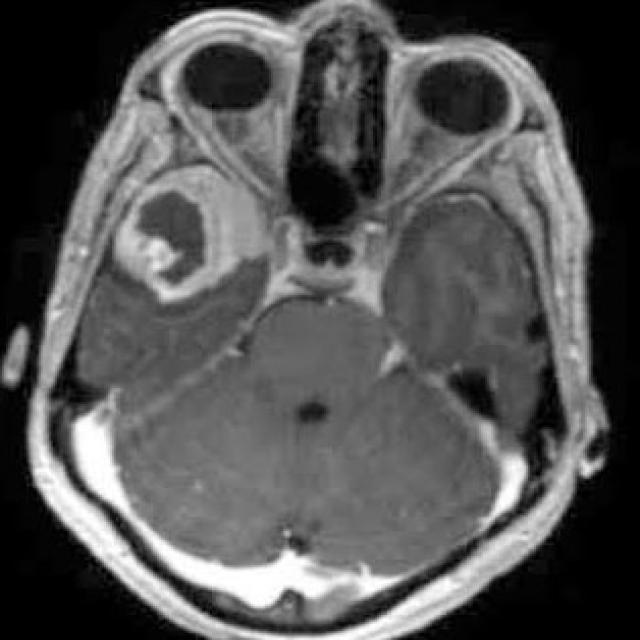brain_tumor: (114, 165, 265, 304)
